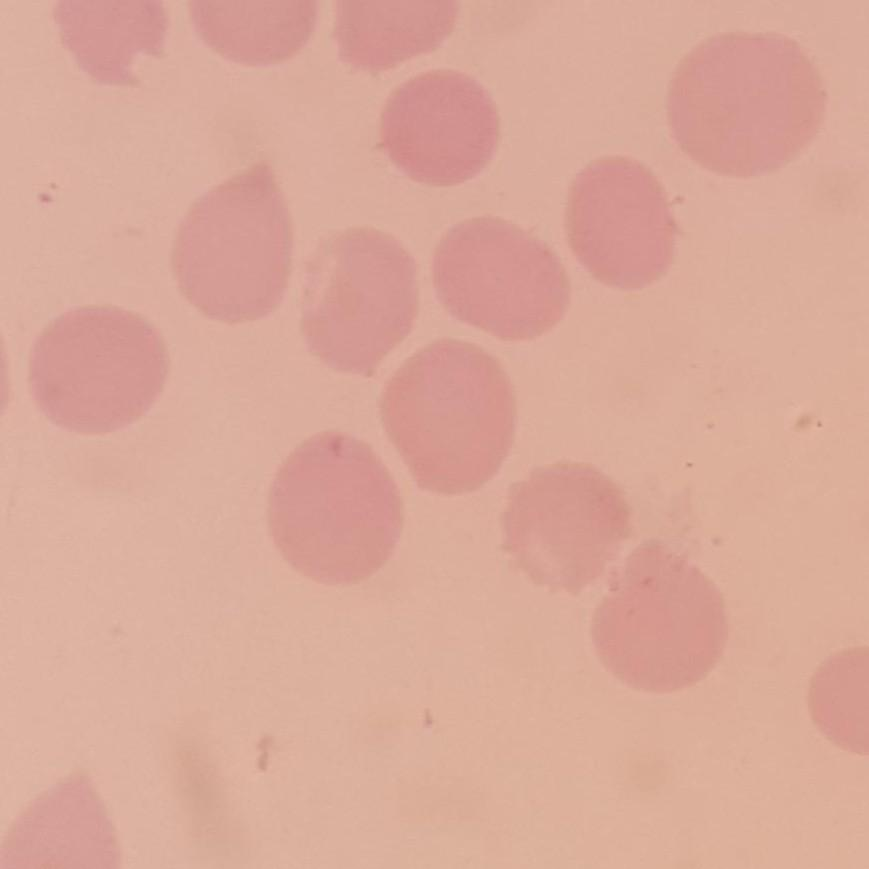Uninfected: (670, 31, 825, 177), (170, 153, 295, 326), (266, 429, 403, 584), (382, 341, 518, 490), (594, 539, 729, 688), (30, 307, 169, 433), (302, 225, 413, 374), (504, 463, 631, 592), (432, 215, 566, 337), (562, 153, 678, 290), (382, 69, 502, 188)
